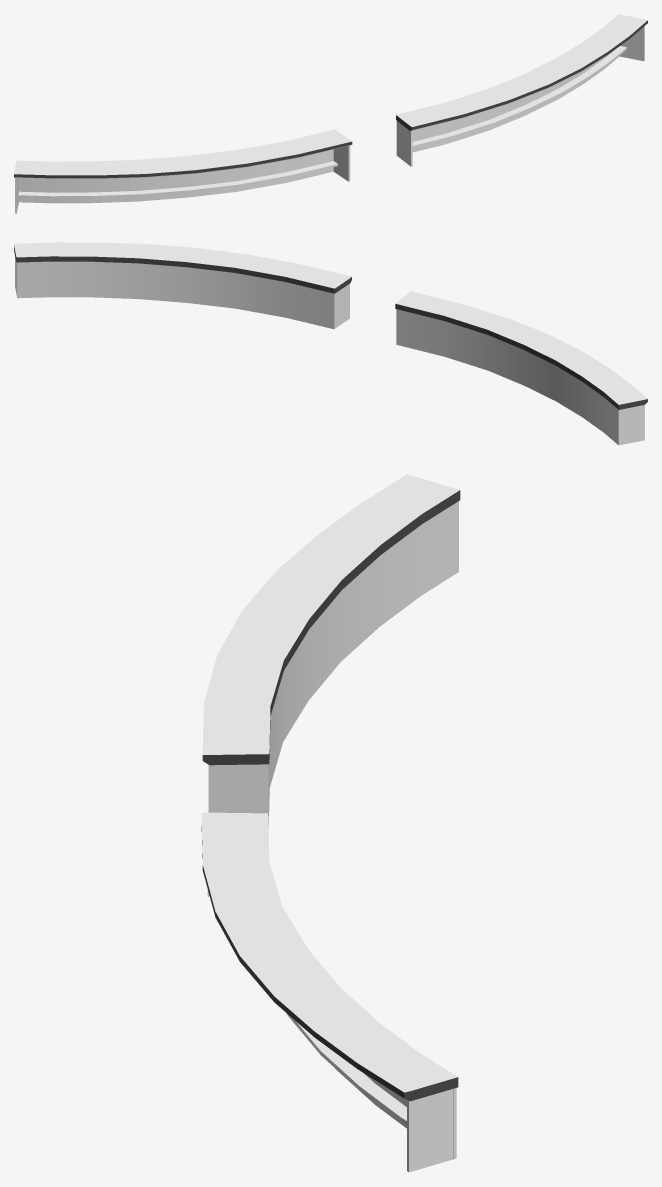
Rendered from studentdesk3.fbx.
3 views of the same model, one above another, from view 1: azimuth 30°, elevation 25°; view 2: azimuth 150°, elevation 25°; view 3: azimuth 270°, elevation 25° (orthographic). The views are drawn at different scales.
Visible parts, largest first — view 1: studentdesk3; view 2: studentdesk3; view 3: studentdesk3.
Part boxes in pixels (<box>): studentdesk3: <box>14,14,647,213</box>; studentdesk3: <box>14,242,647,445</box>; studentdesk3: <box>201,474,460,1172</box>.
Bounding box in the file's own units: 1586 × 97.87 × 281.
Materials: 1 (1 with a texture image).
